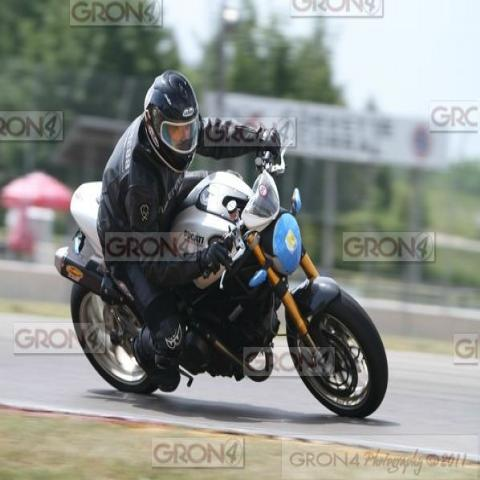motorcycle: (56, 146, 389, 418)
